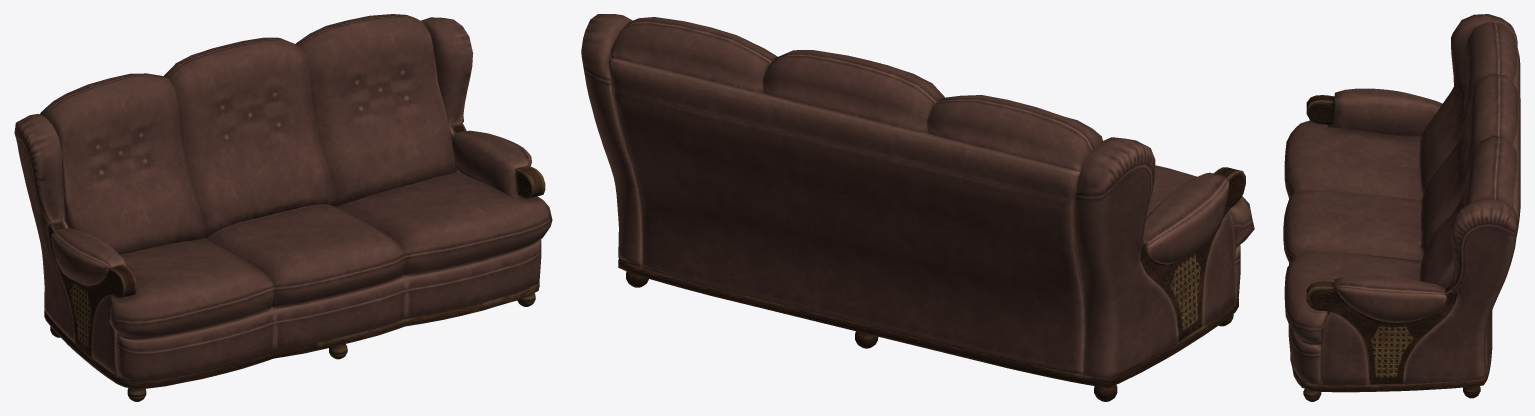
The model's file is Sofa_LOD.fbx.
3 views of the same model, side by side, from view 1: azimuth 30°, elevation 25°; view 2: azimuth 150°, elevation 25°; view 3: azimuth 270°, elevation 25° (orthographic). The views are drawn at different scales.
Visible parts, largest first — view 1: Sofa_LOD0; view 2: Sofa_LOD0; view 3: Sofa_LOD0.
Part boxes in pixels (<box>): Sofa_LOD0: <box>14,14,552,401</box>; Sofa_LOD0: <box>581,14,1254,401</box>; Sofa_LOD0: <box>1283,14,1520,401</box>.
Size of what is drawn, in the model's own units: 1.93 by 0.9622 by 0.9421.
